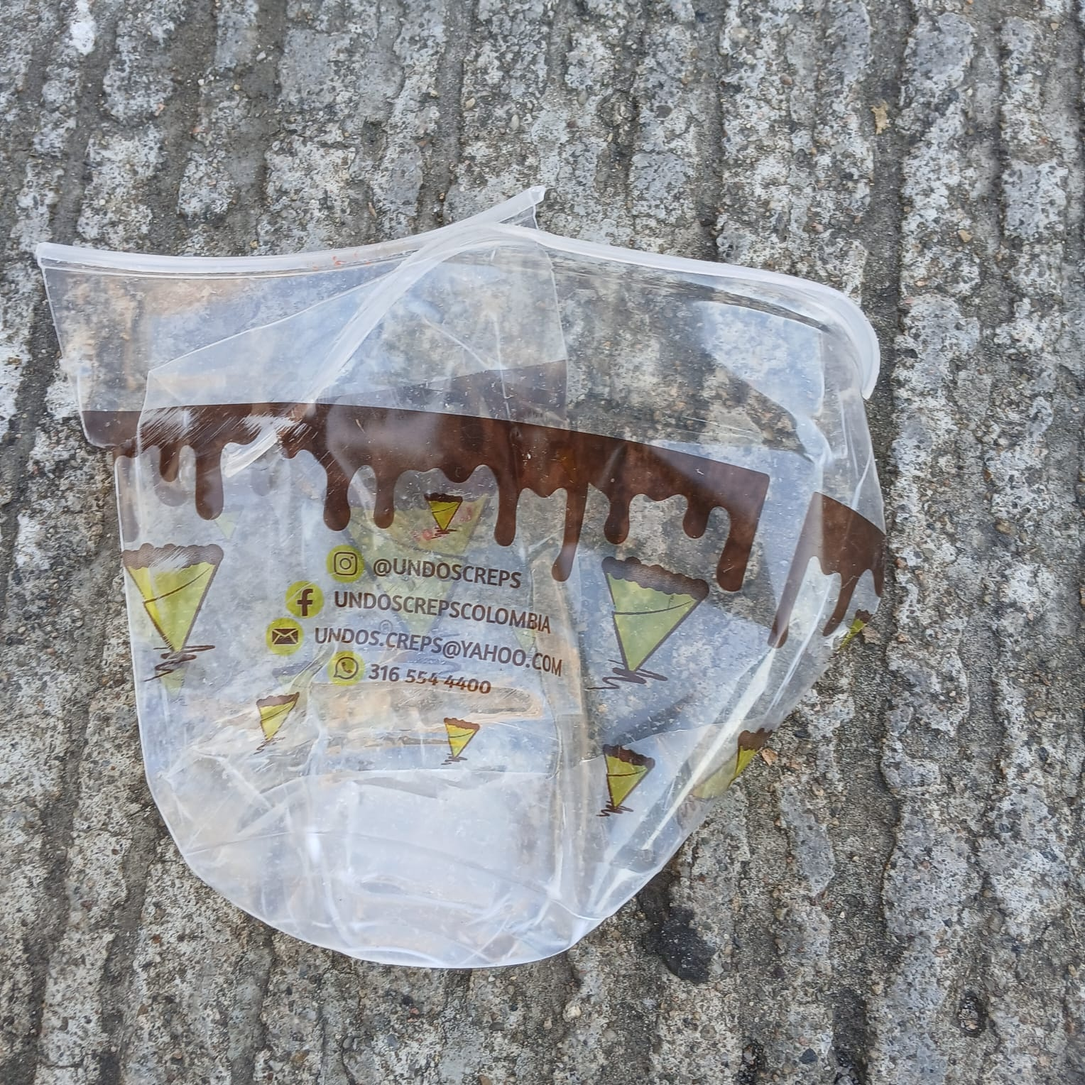Plastico: (35, 225, 894, 975)
